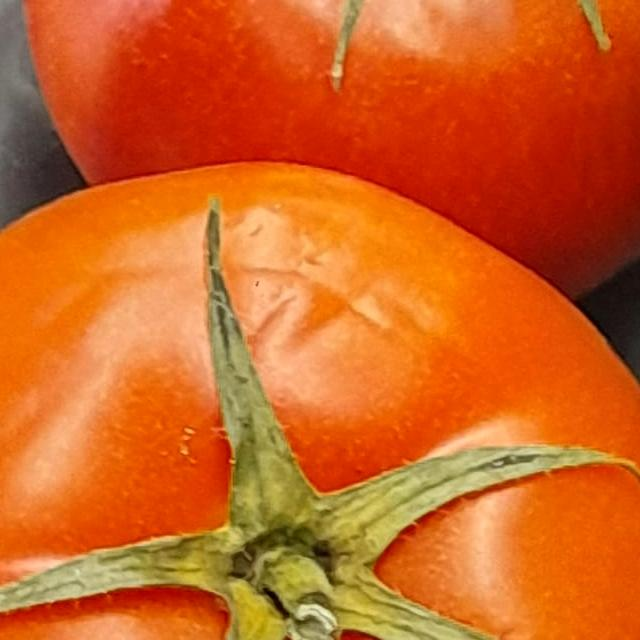tomato: (0, 143, 640, 640), (0, 0, 640, 276)
